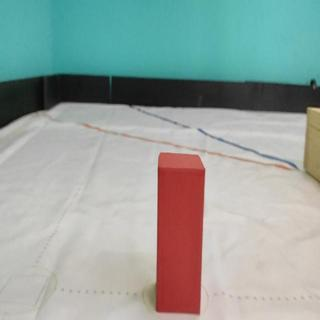redbox: (157, 153, 202, 315)
